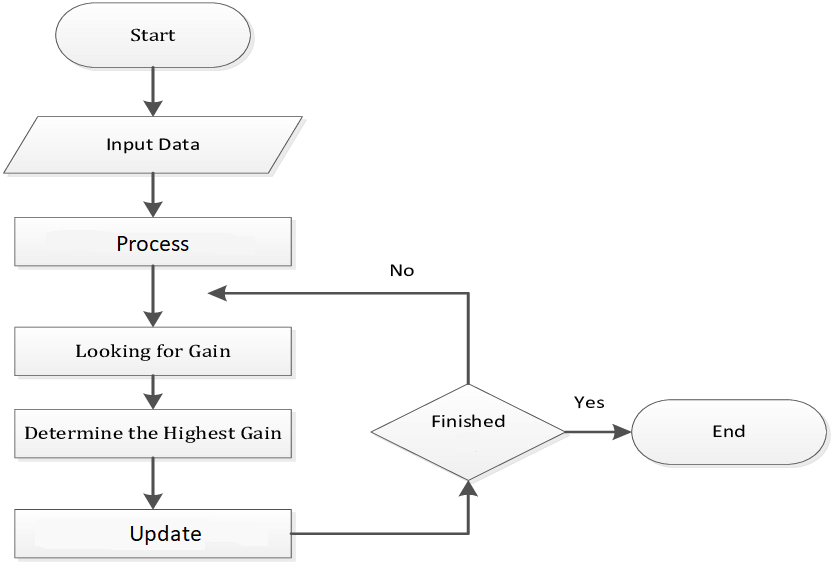arrow: (209, 283, 473, 382), (291, 478, 480, 539), (142, 267, 162, 327), (567, 425, 632, 441), (143, 169, 164, 217), (143, 456, 161, 509), (144, 69, 162, 119), (145, 375, 163, 411)
data: (3, 112, 306, 177)
decision: (370, 382, 566, 481)
process: (10, 323, 296, 379), (12, 406, 294, 462), (12, 214, 294, 269), (10, 505, 295, 559)
terminator: (629, 395, 830, 466), (53, 1, 254, 69)
text: (22, 422, 283, 443), (73, 341, 232, 361), (126, 523, 205, 547), (103, 135, 202, 153), (116, 233, 189, 252), (428, 411, 507, 428), (129, 27, 177, 44), (571, 390, 608, 412), (710, 421, 750, 441), (387, 259, 414, 277)
